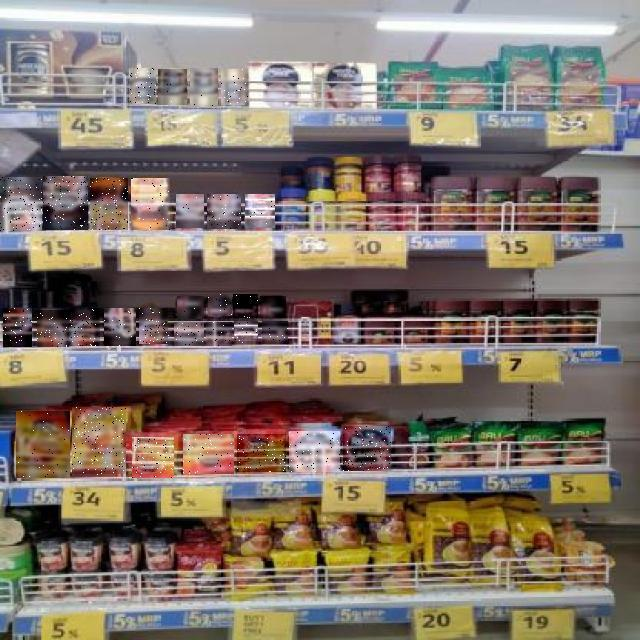Coffee: (72, 408, 126, 476), (16, 411, 70, 478), (43, 176, 88, 230), (1, 177, 43, 231), (343, 426, 391, 471), (289, 431, 340, 472), (132, 178, 172, 230), (183, 434, 234, 474), (90, 178, 128, 230), (237, 434, 286, 472), (132, 437, 174, 478), (104, 308, 136, 346), (70, 308, 102, 346), (207, 194, 241, 229), (37, 310, 69, 347), (3, 308, 32, 347), (191, 68, 219, 107), (140, 308, 170, 344), (158, 69, 187, 105), (245, 194, 275, 228), (221, 69, 248, 105), (176, 194, 204, 228), (130, 68, 156, 104), (174, 322, 204, 346), (178, 296, 206, 319), (206, 322, 232, 346), (233, 294, 258, 318), (263, 321, 289, 344), (260, 296, 286, 318), (208, 295, 232, 317), (234, 322, 258, 344)
